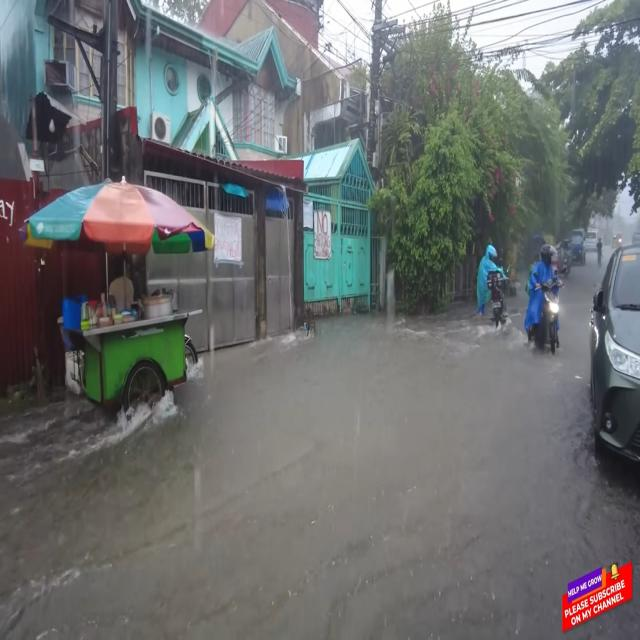half: (538, 243, 559, 271), (484, 244, 498, 263)
